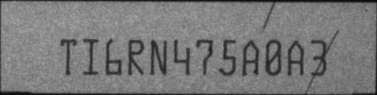0: (264, 37, 282, 75)
3: (309, 39, 327, 77)
4: (172, 38, 189, 75)
5: (219, 39, 237, 75)
6: (105, 38, 123, 76)
7: (196, 38, 213, 76)
A: (242, 39, 260, 76), (287, 40, 305, 76)
I: (82, 37, 99, 75)
N: (150, 38, 168, 76)
R: (128, 38, 143, 76)
T: (59, 38, 78, 76)
